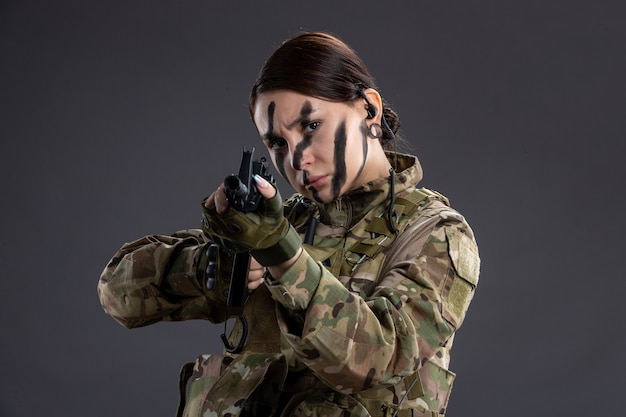gun: (210, 146, 279, 315)
